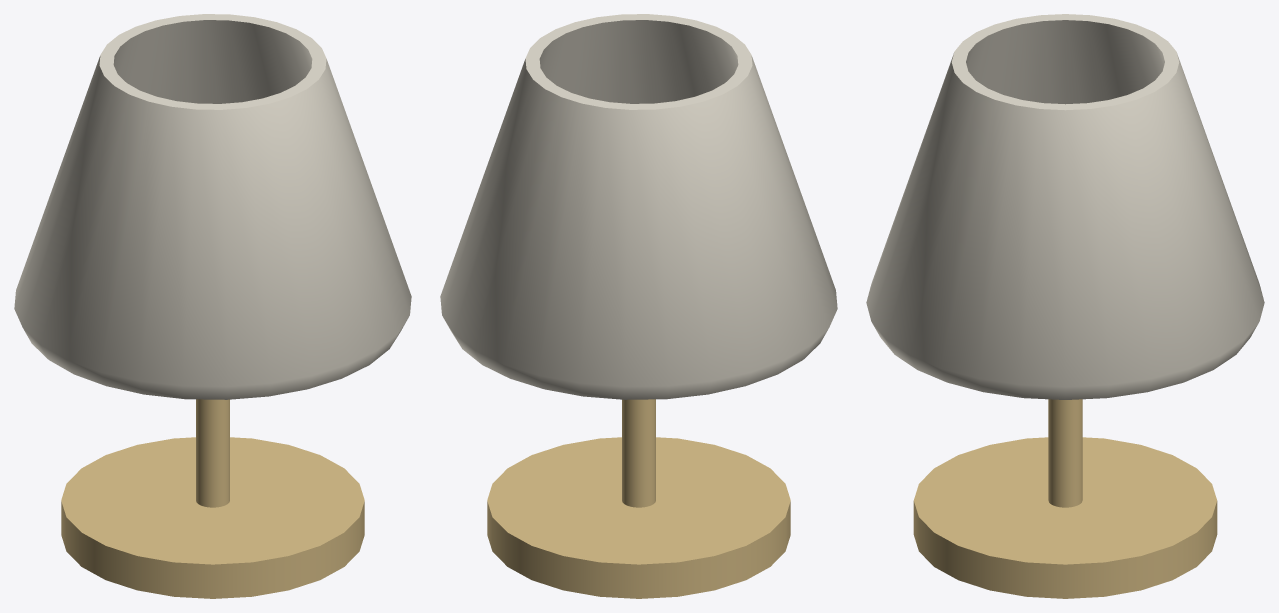
3 renders of one model, left to right at view 1: azimuth 30°, elevation 25°; view 2: azimuth 150°, elevation 25°; view 3: azimuth 270°, elevation 25°, orthographic.
Visible parts, largest first — view 1: table-lamp; view 2: table-lamp; view 3: table-lamp.
Part boxes in pixels (box(x1,y1,x2,y2)): table-lamp: box(14, 14, 411, 598); table-lamp: box(440, 14, 837, 598); table-lamp: box(866, 14, 1264, 598).
Size of the model in its own units: 0.42 by 0.55 by 0.42.
